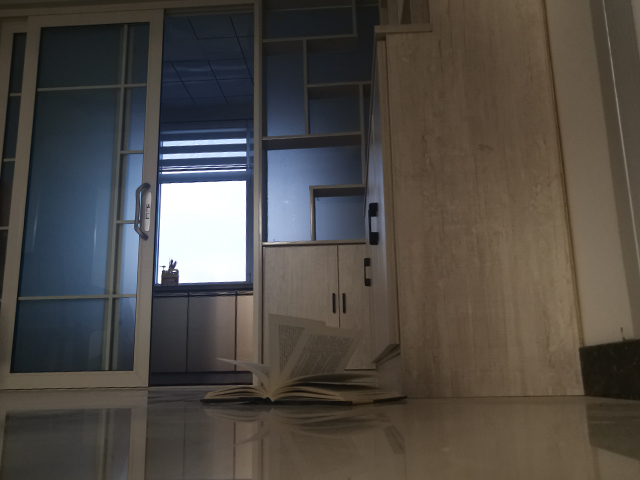book: (198, 311, 411, 409)
cabinet: (251, 240, 390, 400), (142, 282, 250, 387)
